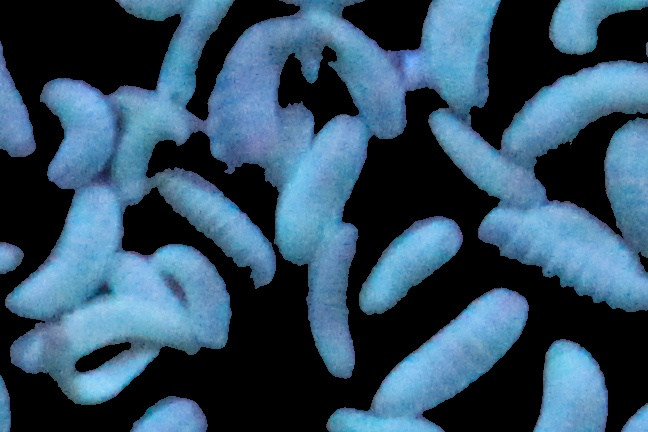larvae: (478, 197, 648, 313), (377, 289, 528, 414), (504, 58, 648, 163), (3, 188, 123, 309), (154, 167, 274, 285), (11, 303, 203, 371), (279, 115, 369, 257), (309, 14, 409, 135), (205, 17, 296, 149), (431, 110, 546, 204), (362, 215, 462, 320), (420, 1, 506, 109), (154, 242, 232, 347), (37, 78, 112, 187), (306, 223, 358, 380), (114, 96, 195, 195), (532, 335, 612, 431), (152, 1, 228, 102), (51, 343, 162, 406), (602, 121, 648, 259), (544, 1, 648, 58), (1, 23, 36, 163), (106, 254, 183, 310), (322, 400, 451, 432)
